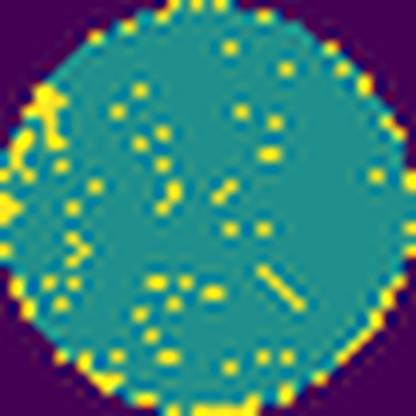Edge-Loc: (21, 76, 75, 150), (0, 189, 23, 229)
